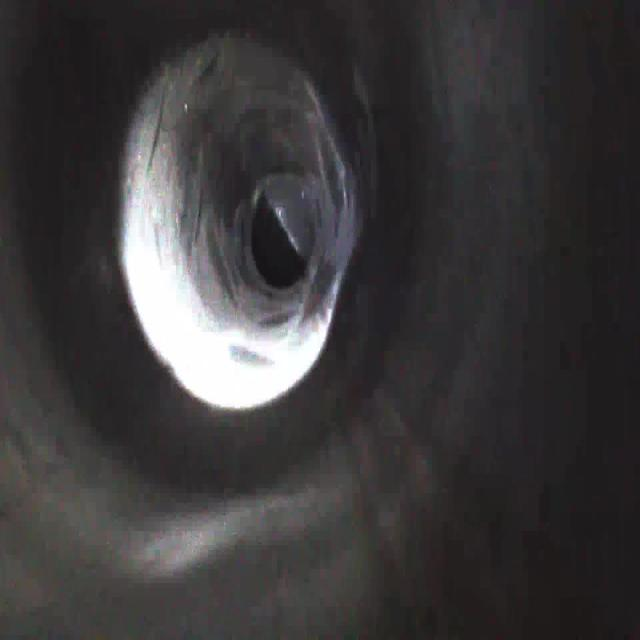crack: (132, 76, 173, 203), (318, 130, 366, 237), (183, 34, 231, 111), (225, 333, 281, 391), (180, 179, 215, 261)
